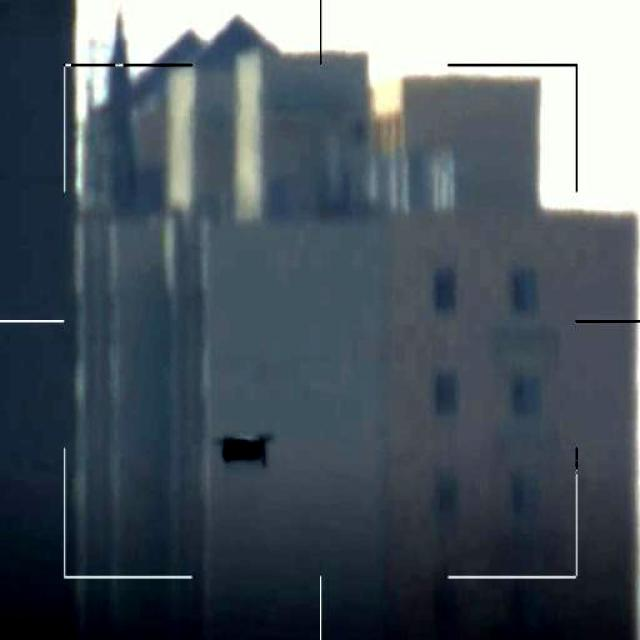bird: (214, 434, 274, 469)
